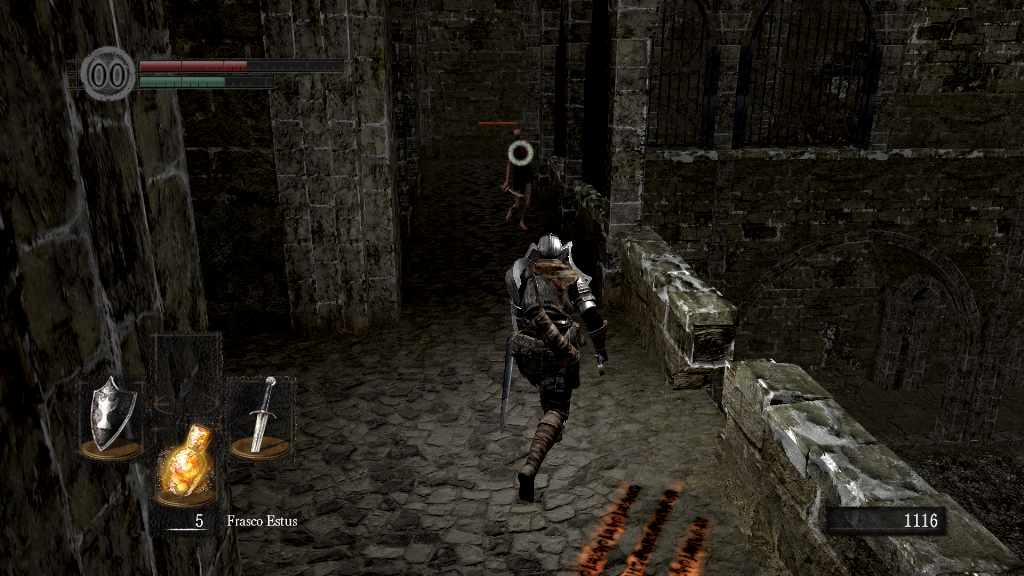health: (138, 58, 343, 71)
hollow: (497, 130, 535, 233)
humanity: (80, 45, 136, 102)
player: (499, 228, 611, 502)
souls: (825, 506, 945, 536)
stamina: (138, 74, 274, 88)
